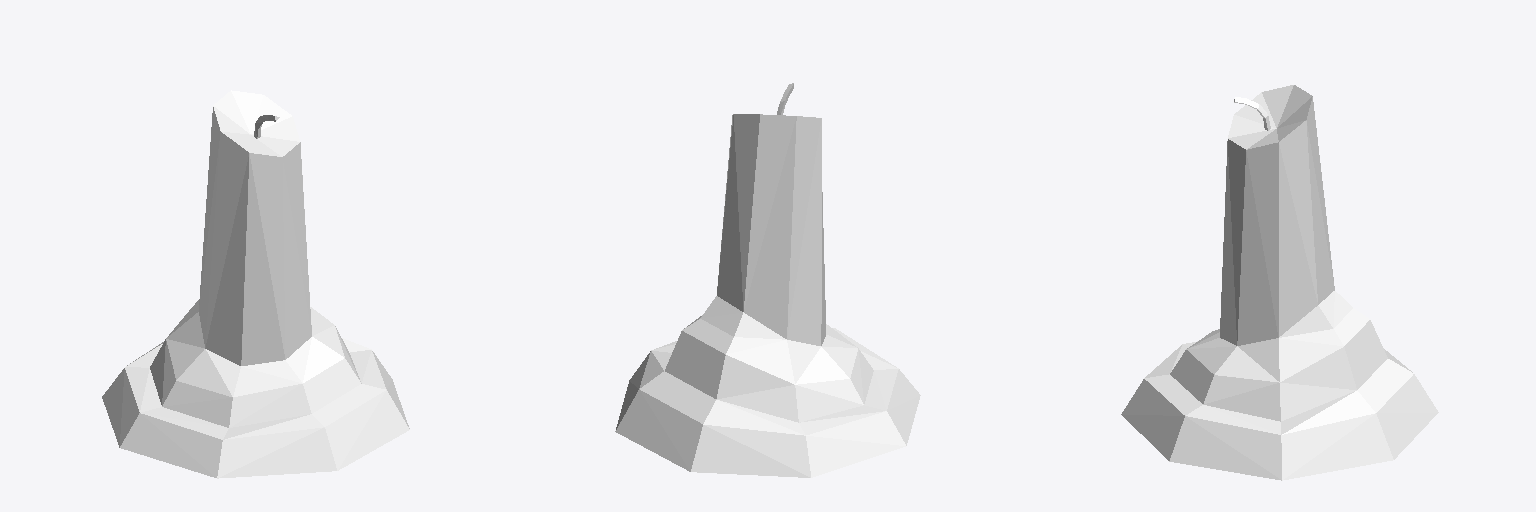
The model's file is CandleLowDetailShort.obj.
3 renders of one model, left to right at view 1: azimuth 30°, elevation 25°; view 2: azimuth 150°, elevation 25°; view 3: azimuth 270°, elevation 25°, orthographic.
Visible parts, largest first — view 1: CandleLowDetailShort; view 2: CandleLowDetailShort; view 3: CandleLowDetailShort.
Part boxes in pixels (left/top/right/bottom): CandleLowDetailShort: left=102, top=90, right=409, bottom=478; CandleLowDetailShort: left=615, top=83, right=920, bottom=477; CandleLowDetailShort: left=1121, top=85, right=1438, bottom=480.
Size of the model in its own units: 0.1691 by 0.185 by 0.1691.